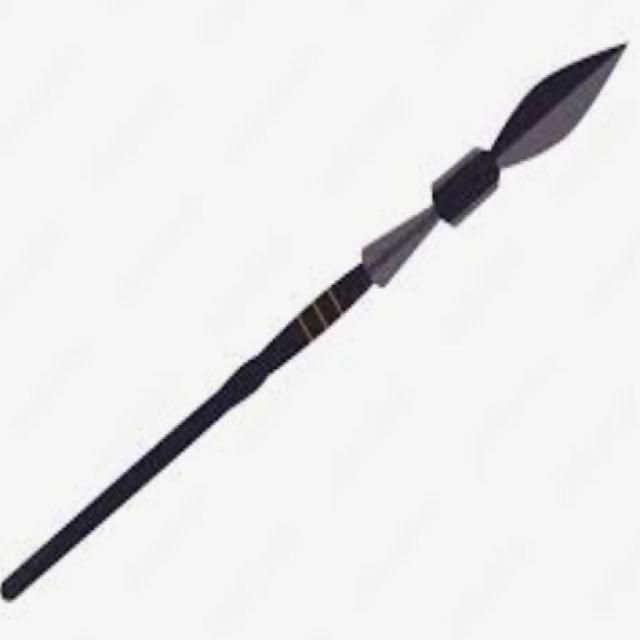spear: (1, 46, 638, 598)
